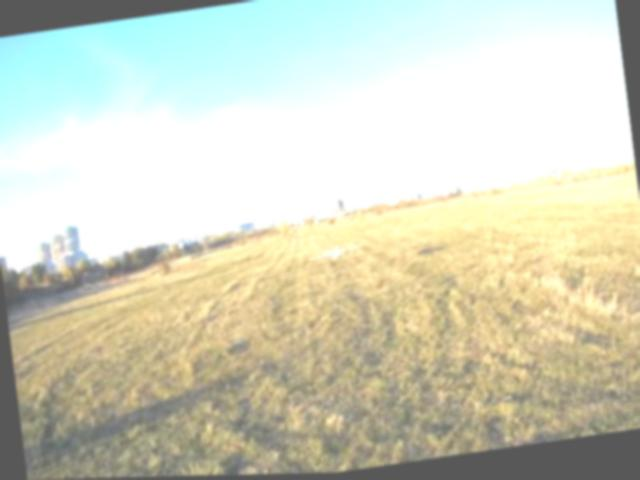uav: (300, 234, 364, 272)
